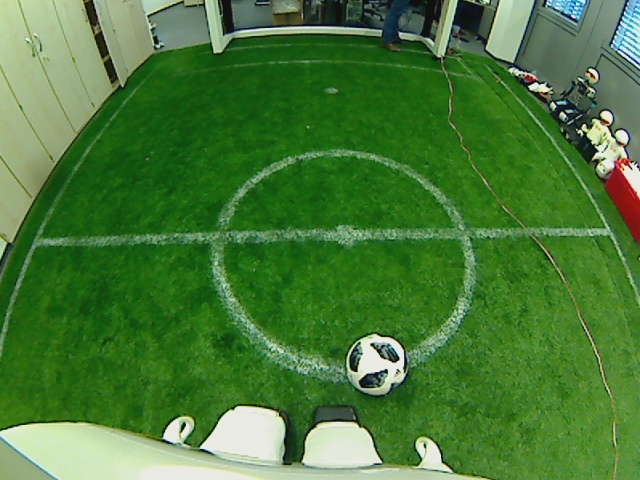ball: (344, 332, 410, 396)
